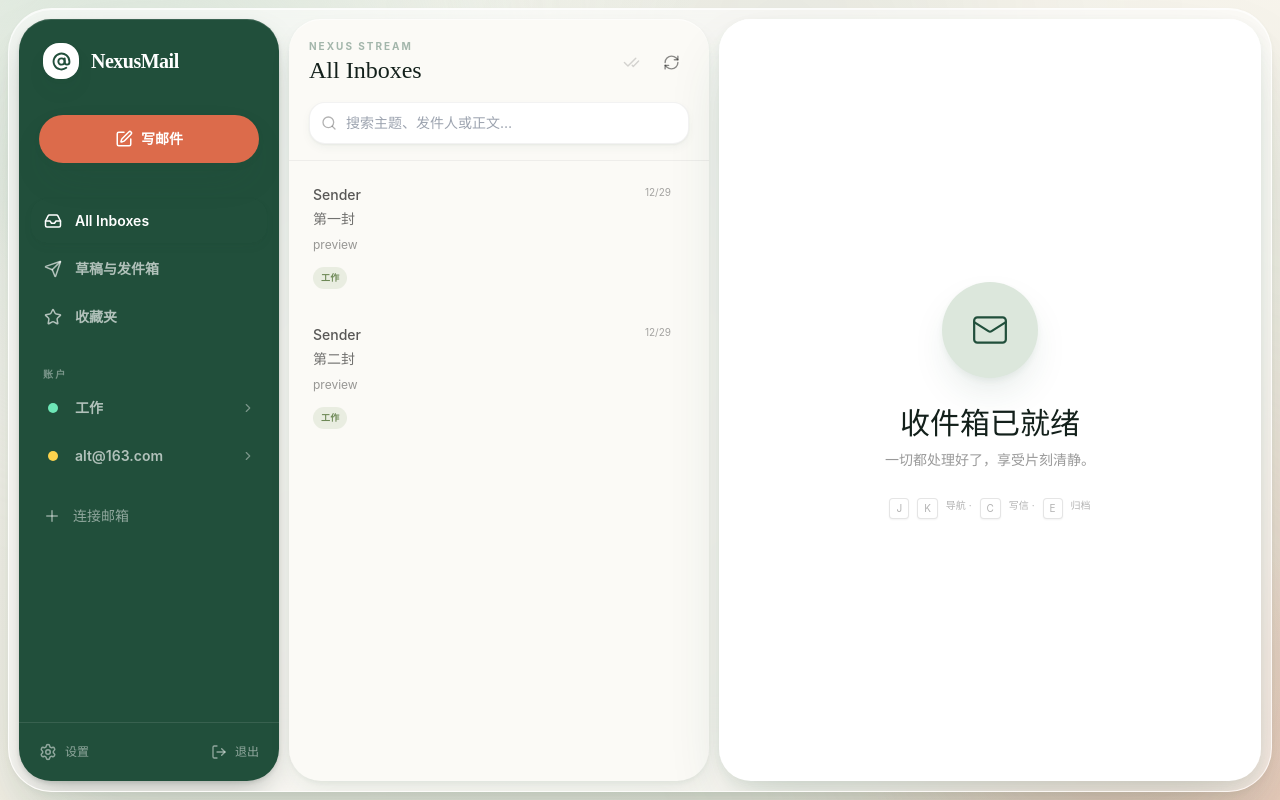
Test: view scoping › returns to every inbox and clears both scopes
expect the button "Sender 12/29 第一封 preview 工作" is shown: met, box [297,169,701,304]
Click the button "工作".
click(149, 408)  # box [31,386,267,430]
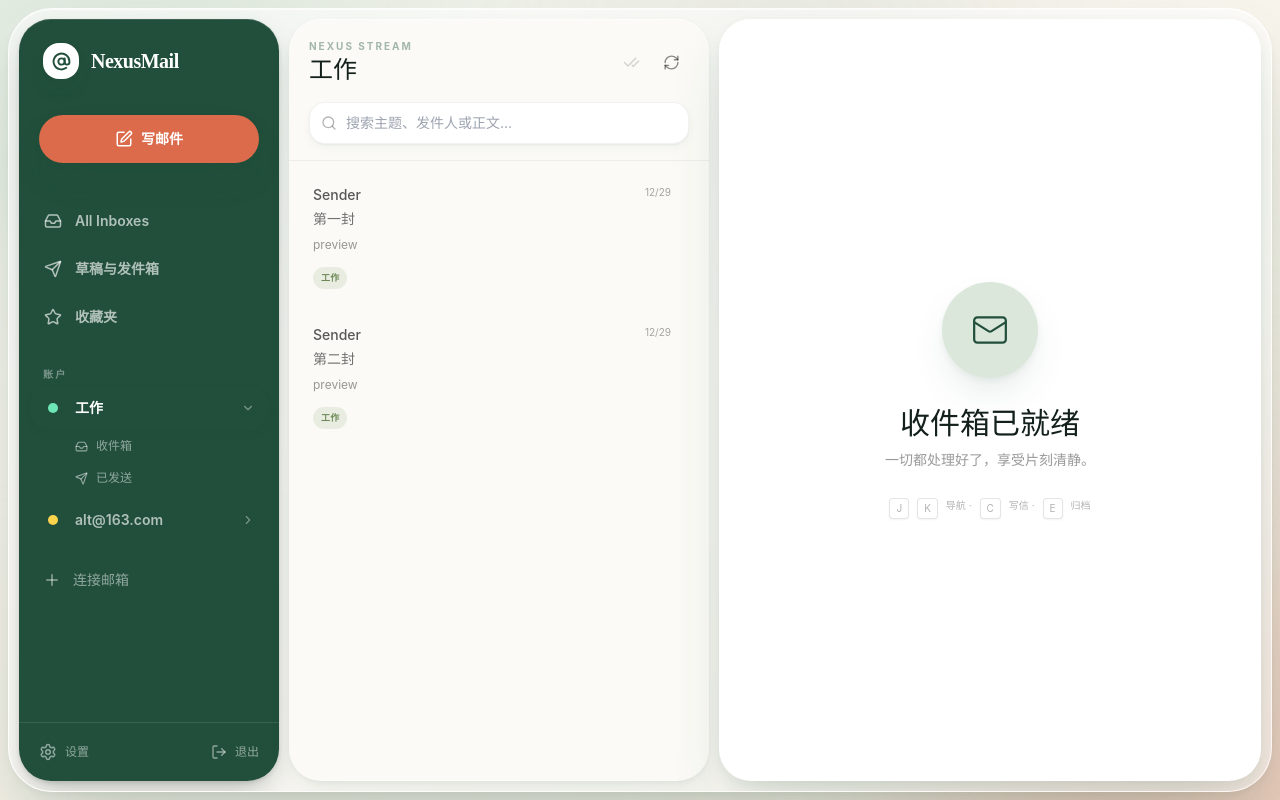
Click the button "已发送".
click(161, 478)  # box [63,462,259,494]
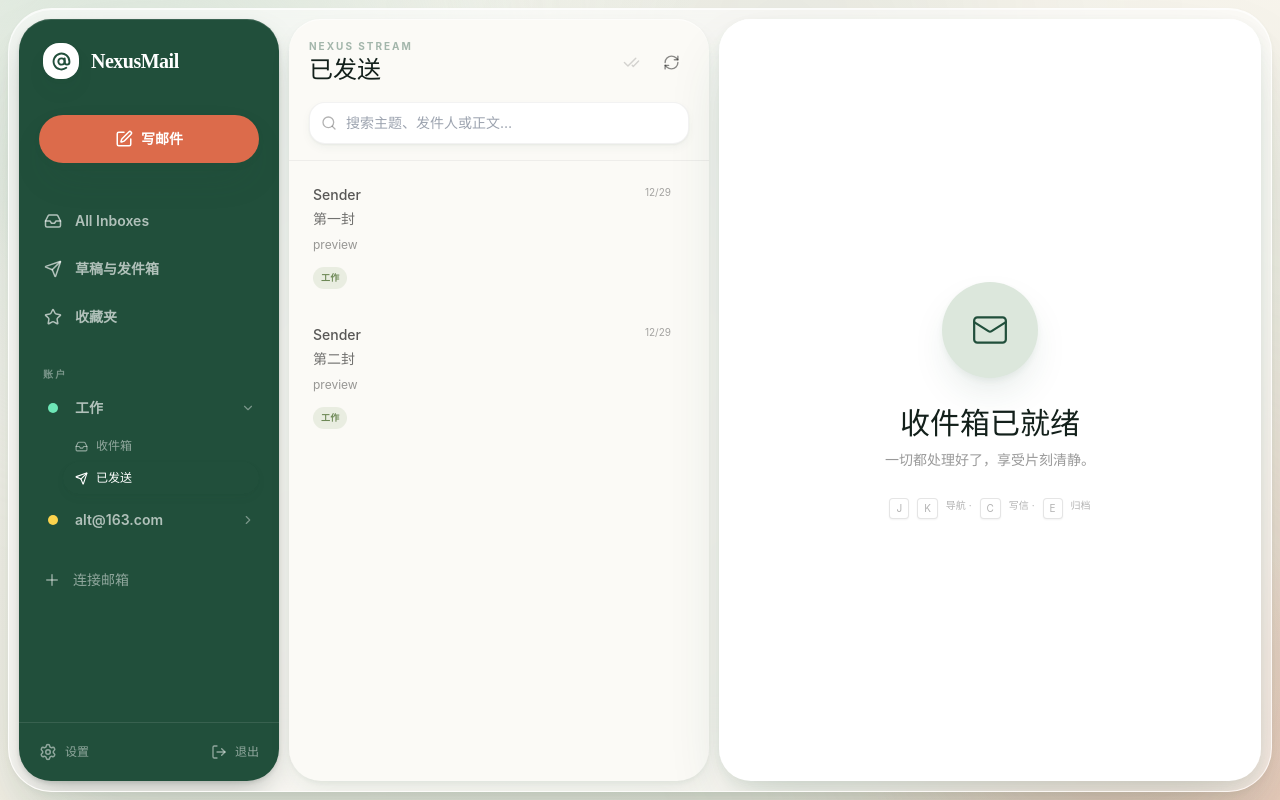
Click the button "All Inboxes".
click(149, 221)  # box [31,199,267,243]
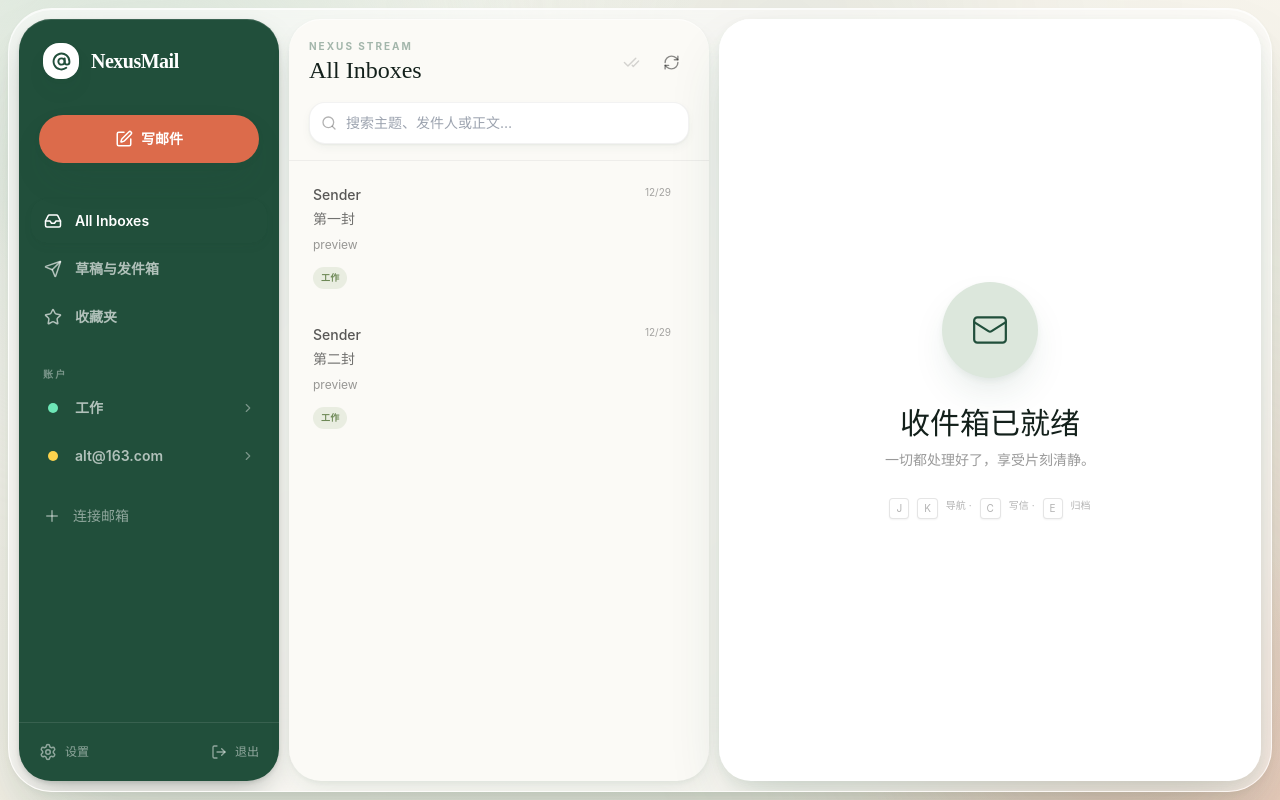
expect the heading "All Inboxes" is shown: met, box [309,57,422,83]
